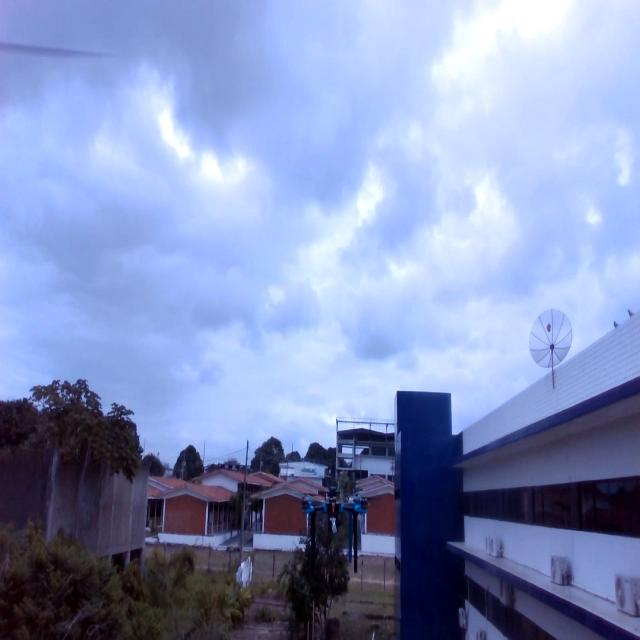-uav-: (283, 477, 380, 581)
